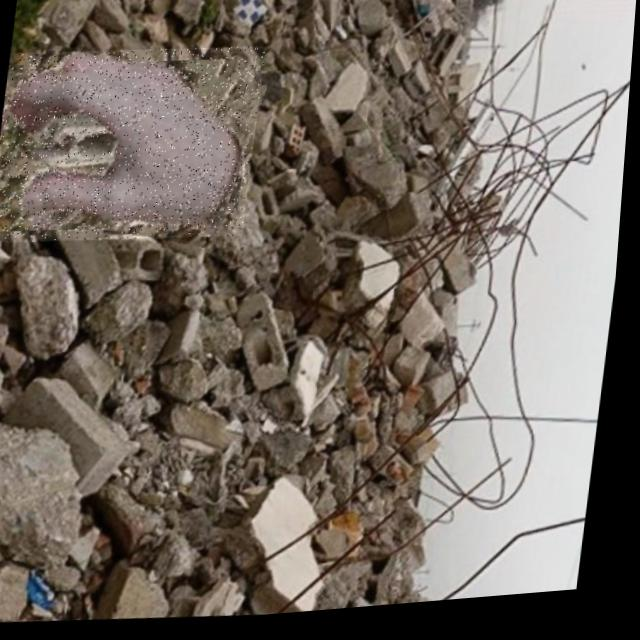Person in Rubble: (0, 37, 267, 256)
